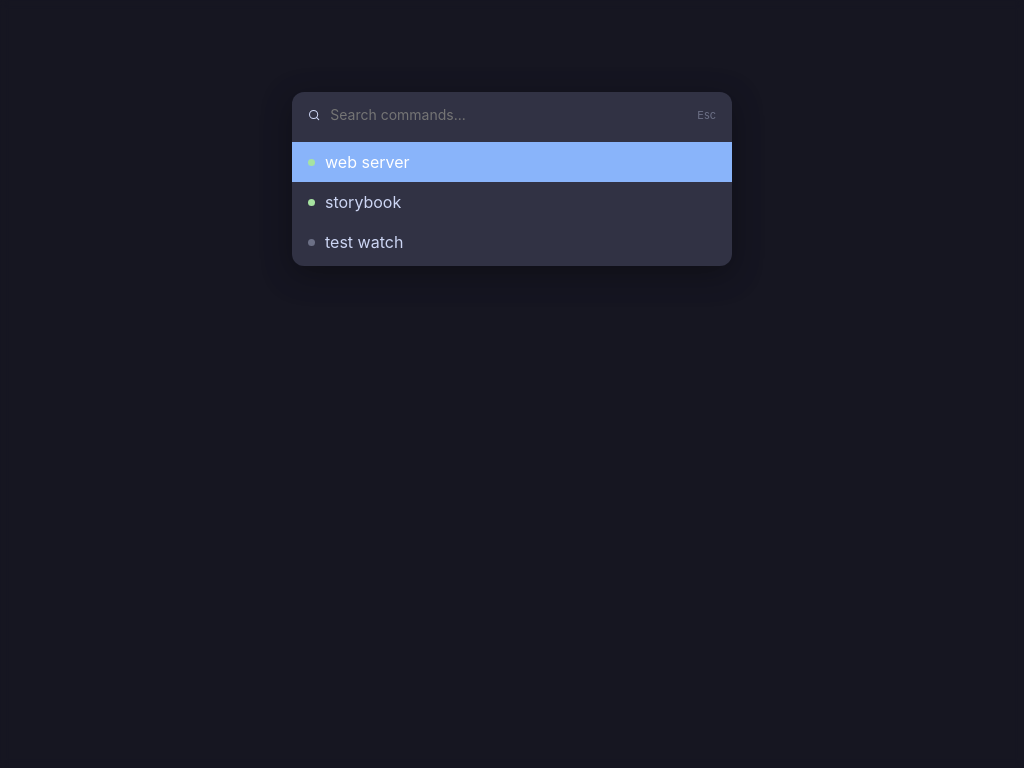
Scenario: CommandLauncher › shows empty state when no commands match
Step 1. Type "zzzzz" into the field with placeholder "Search commands..." → (509, 115), box [330,106,687,123]
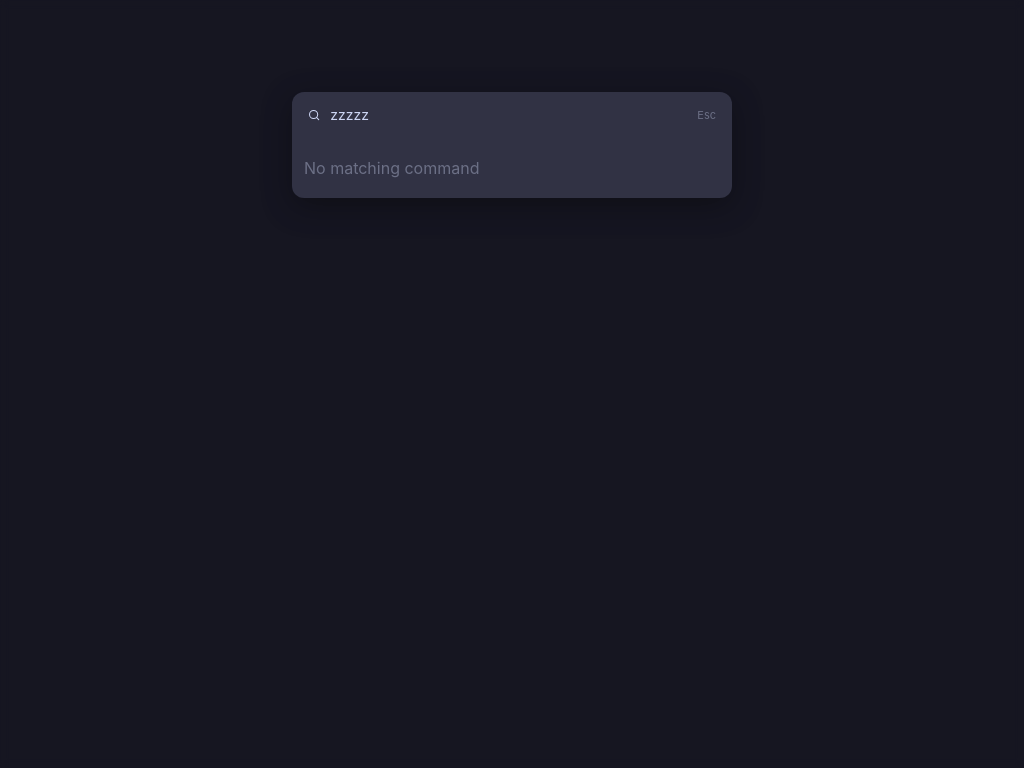
Result: the text "No matching command" is shown at [304,158,480,178]
